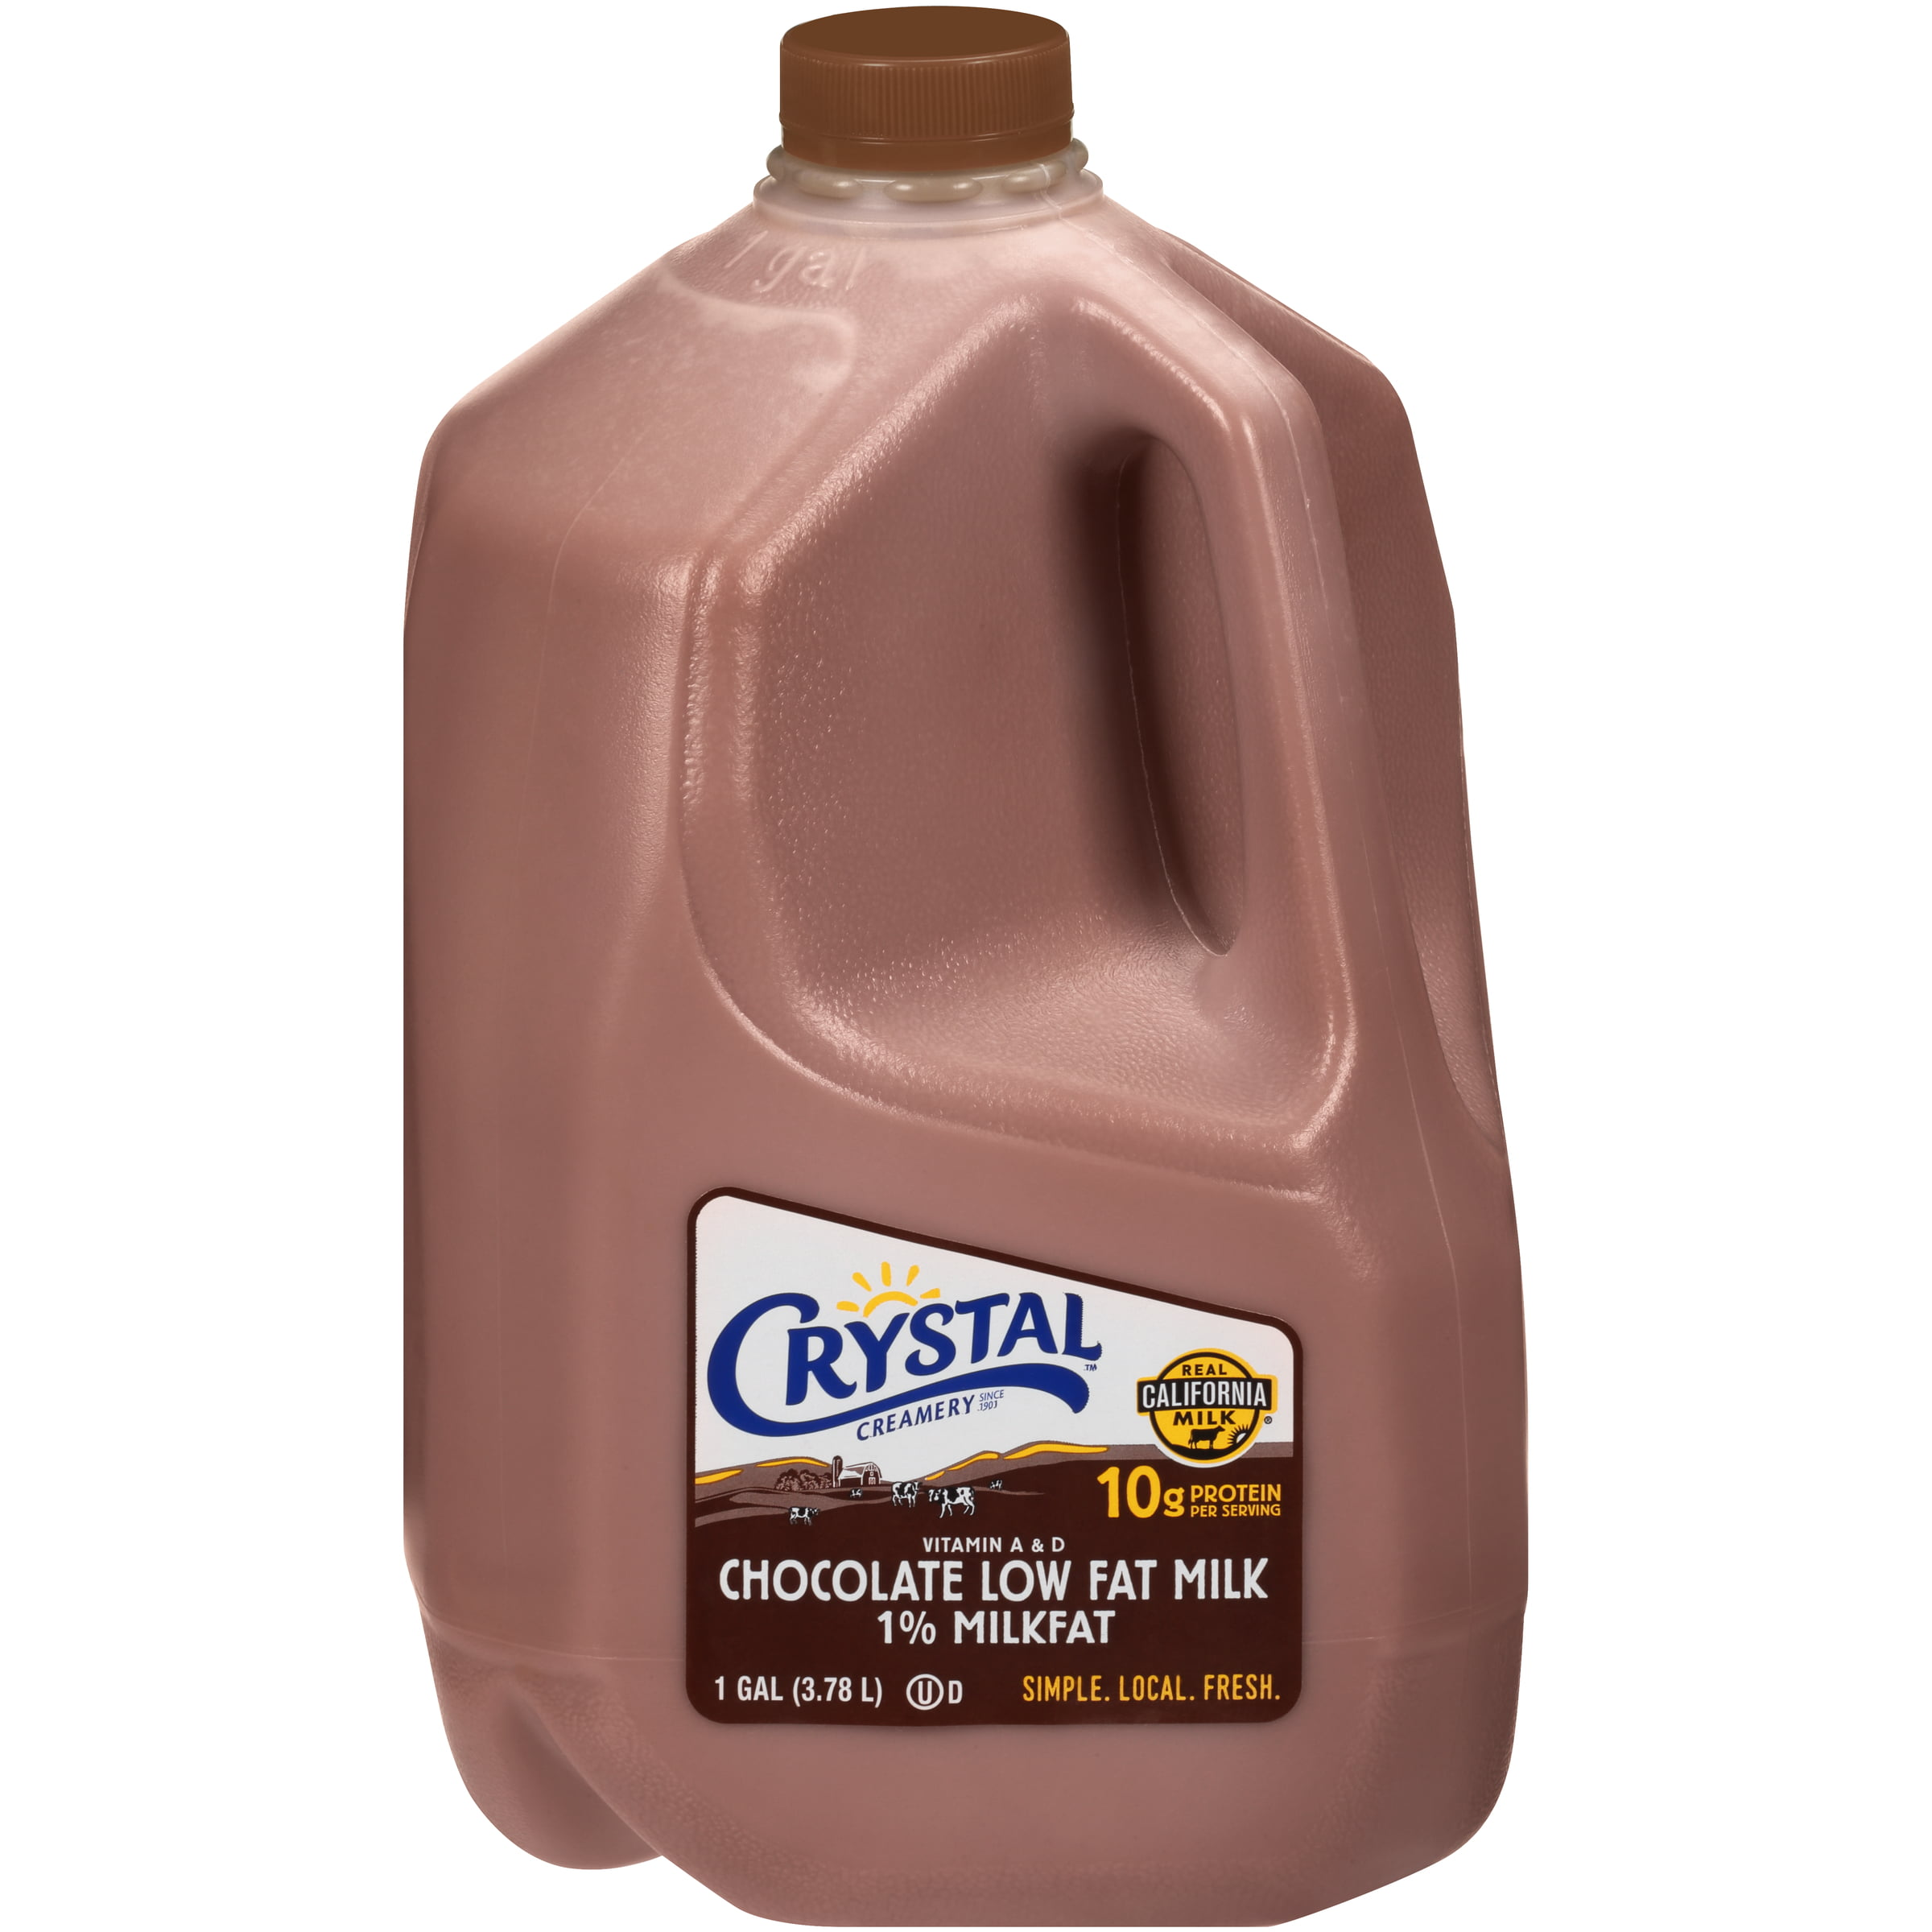Milk_Chocolate: (292, 14, 1778, 1918)
